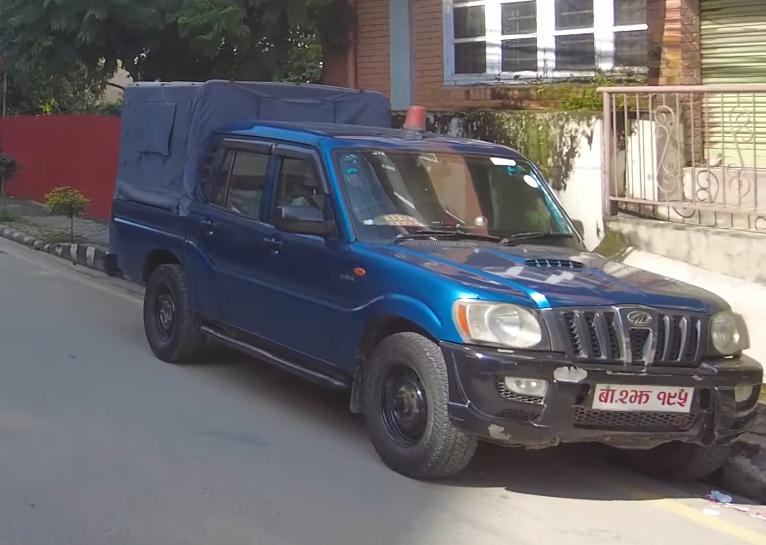police_vehicle: (103, 58, 765, 492)
